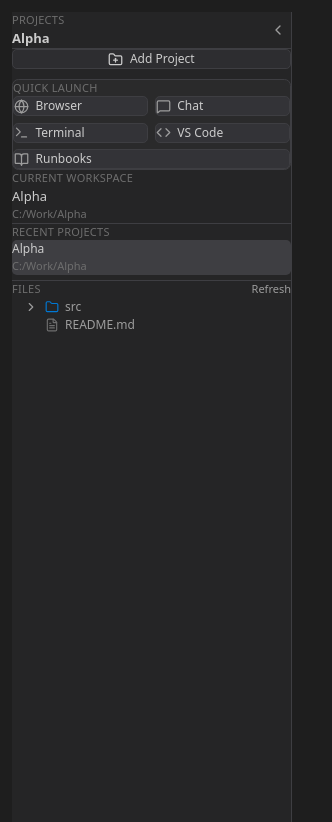
Test: ProjectSidebar › loads and renders the workspace tree for the active project
This screenshot has width=332, height=822.
Expected: the 1st text "Alpha" is shown, [12,28,50,46]
Expected: the text "README.md" is shown, [65,316,135,334]
Step 1. Click the button with aria-label "Expand src" → (31, 307), box [12,298,291,316]
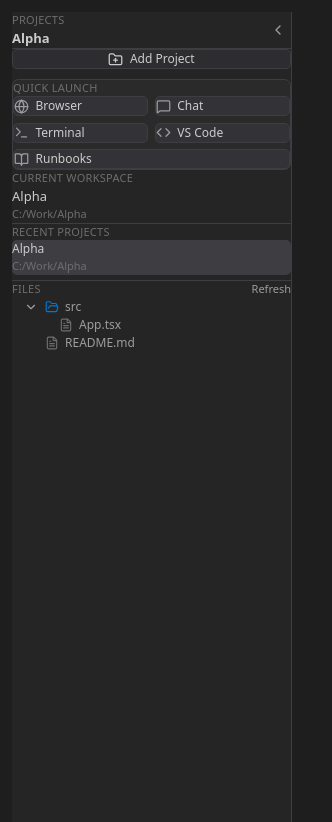
Expected: the text "App.tsx" is shown, [79,316,121,334]
